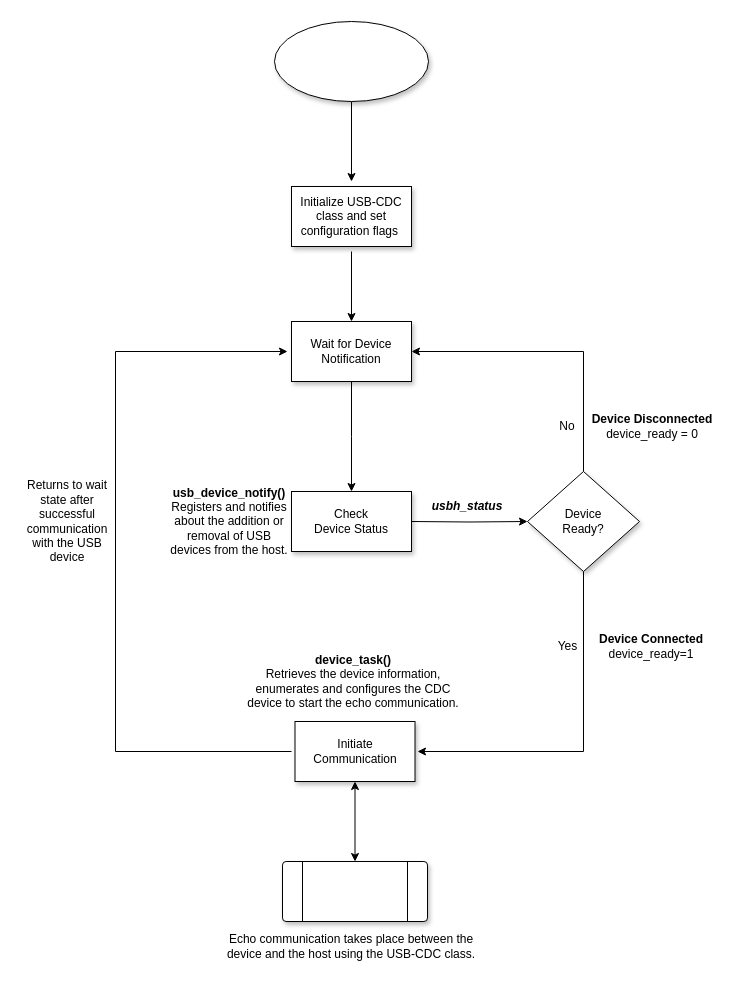
Image size: 738x989. Some labels were removed from this diagram. Each missing label, with the centre of its shape:
USB-CDC Echo Device: the point at 356,892
USBH CDC RTOS Task usbh_cdc_task: the point at 352,62
